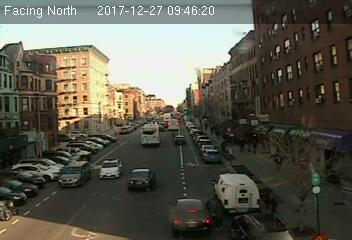bus: (140, 125, 162, 147)
car: (227, 210, 296, 240), (168, 198, 214, 235), (59, 160, 91, 187), (129, 168, 155, 190), (201, 148, 221, 164), (173, 134, 185, 145)
police: (98, 157, 122, 181)
truck: (211, 173, 259, 212)
